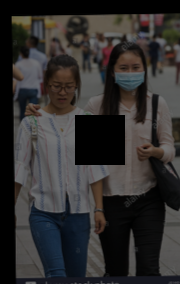with_mask: (112, 61, 146, 92)
without_mask: (45, 78, 77, 109)
